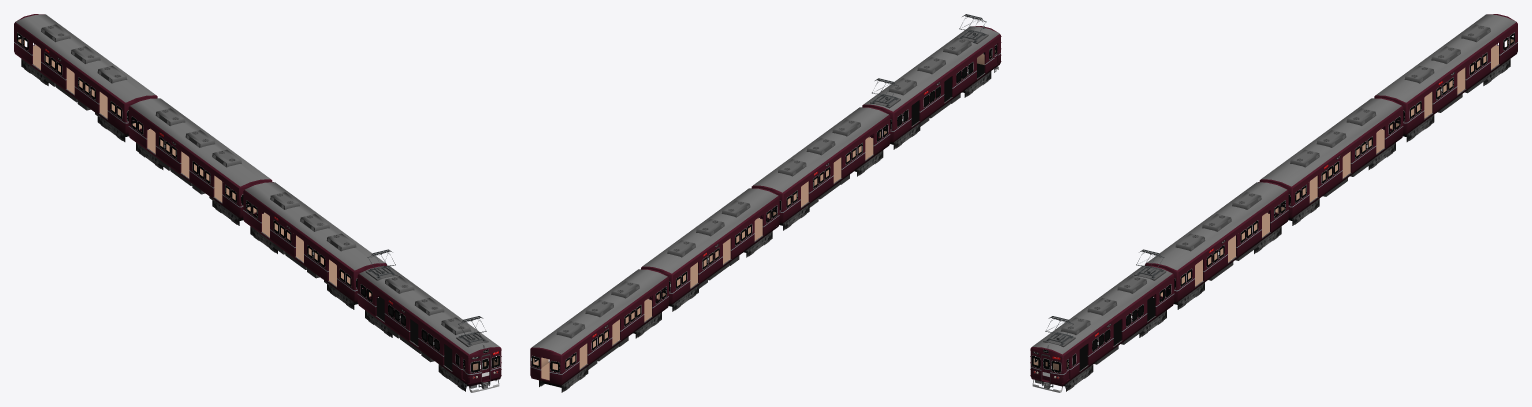
Rendered from OP_7001_BODY.glb.
3 views of the same model, side by side, from view 1: azimuth 30°, elevation 25°; view 2: azimuth 150°, elevation 25°; view 3: azimuth 330°, elevation 25° (orthographic). The views are drawn at different scales.
Visible parts, largest first — view 1: body; view 2: body; view 3: body.
Boxes of the visible parts, x1,y1,x2,y2 form: body: (14,14,501,392); body: (530,14,1001,392); body: (1030,14,1517,392).
Size of the model in its own units: 6.68 by 12.57 by 156.
Materials: 20 (19 with a texture image).
